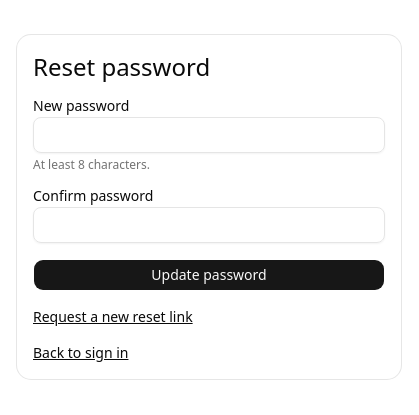
Test: rejects mismatched passwords, then saves a matching password
The width and height of the screenshot is (419, 415).
Type "new-password-123" into the password field labelled "New password" at (209, 135), box [33, 117, 385, 153]
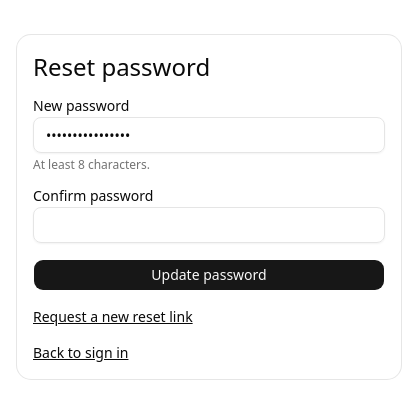
Type "different-123" into the password field labelled "Confirm password" at (209, 225), box [33, 207, 385, 243]
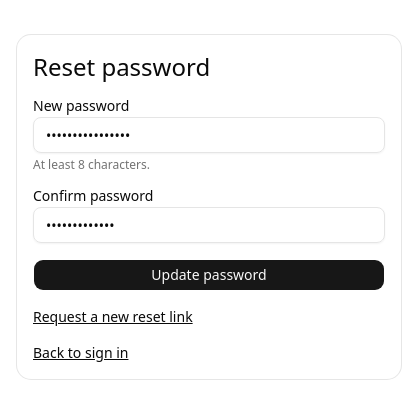
Click the button "Update password" at (209, 275), box [33, 259, 385, 291]
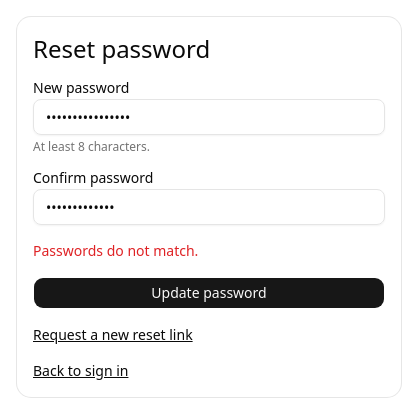
Now the message shows "do not match", box [33, 241, 198, 260]
Type "new-password-123" into the password field labelled "Confirm password" at (209, 207), box [33, 189, 385, 225]
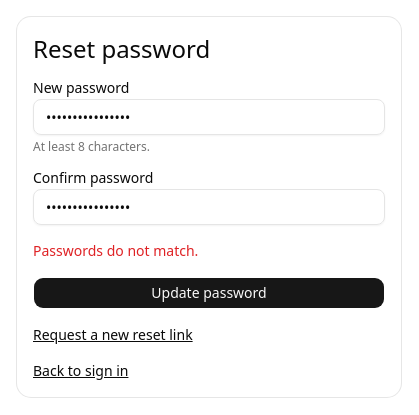
Click the button "Update password" at (209, 293), box [33, 277, 385, 309]
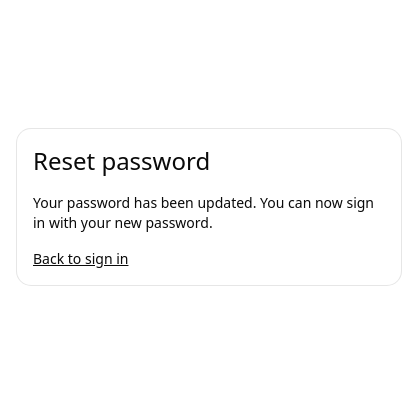
Now the message shows "password has been updated", box [33, 193, 374, 232]
